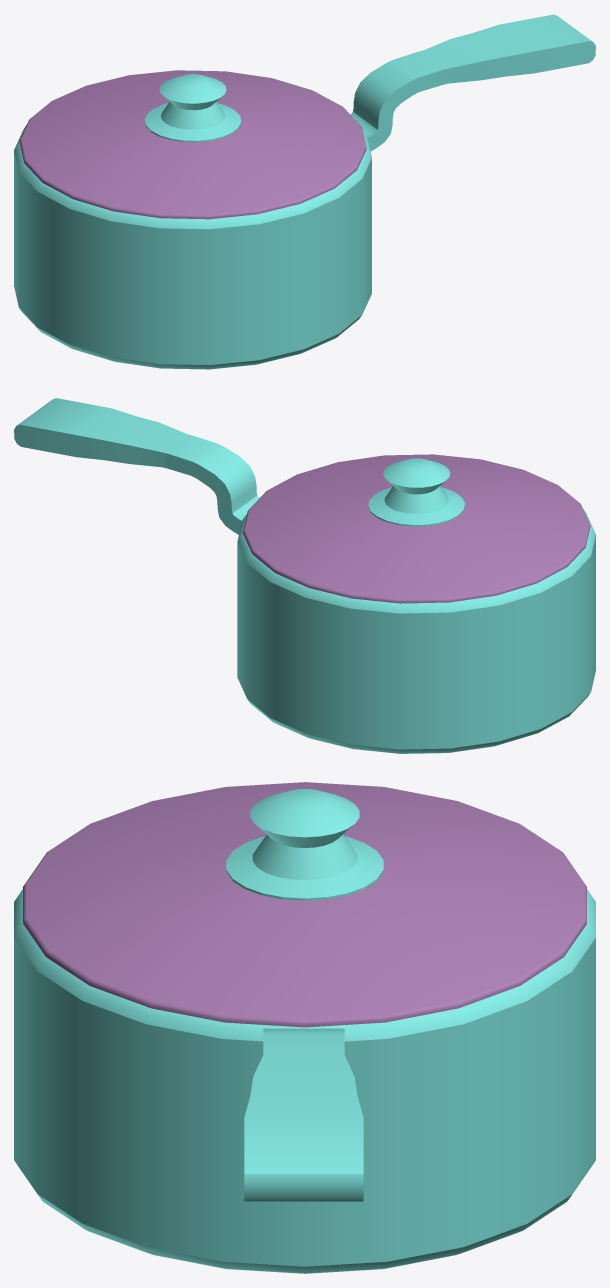
Rendered from Pot2.fbx.
The picture shows the model from 3 angles, top to bottom: view 1: azimuth 30°, elevation 25°; view 2: azimuth 150°, elevation 25°; view 3: azimuth 270°, elevation 25°; orthographic projection. The views are drawn at different scales.
Visible parts, largest first — view 1: Cylinder002; view 2: Cylinder002; view 3: Cylinder002.
Boxes of the visible parts, box(x1,y1,x2,y2) form: Cylinder002: box(14, 14, 595, 369); Cylinder002: box(14, 398, 595, 753); Cylinder002: box(14, 782, 595, 1273).
Bounding box in the file's own units: 27.43 × 10.57 × 15.62.
